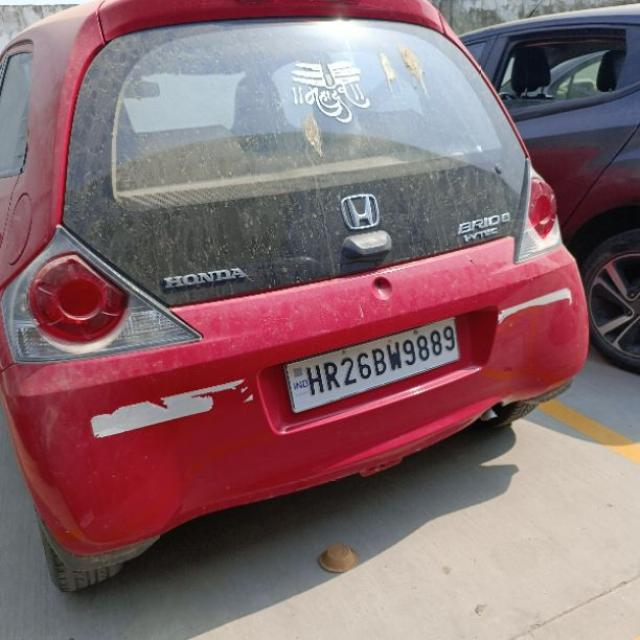license_plate: (280, 315, 461, 414)
